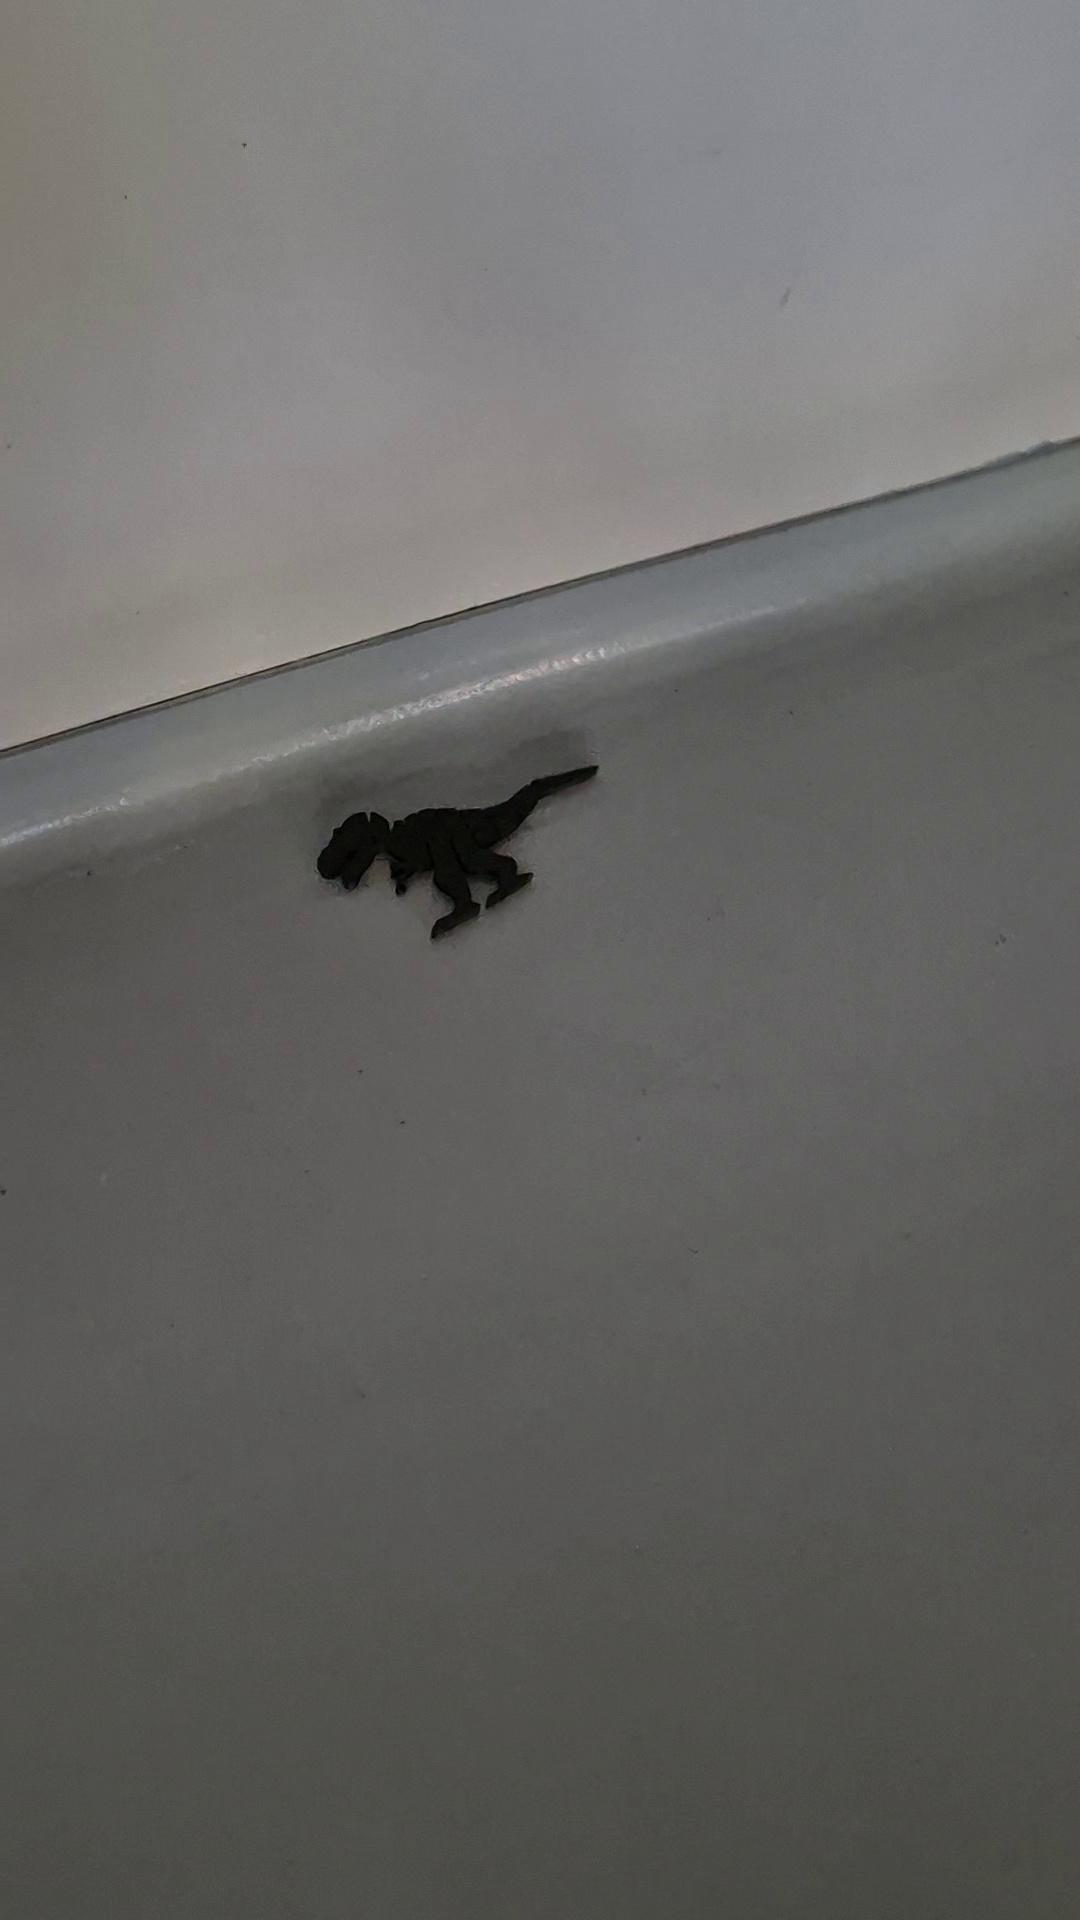dinosaur: (315, 765, 600, 942)
